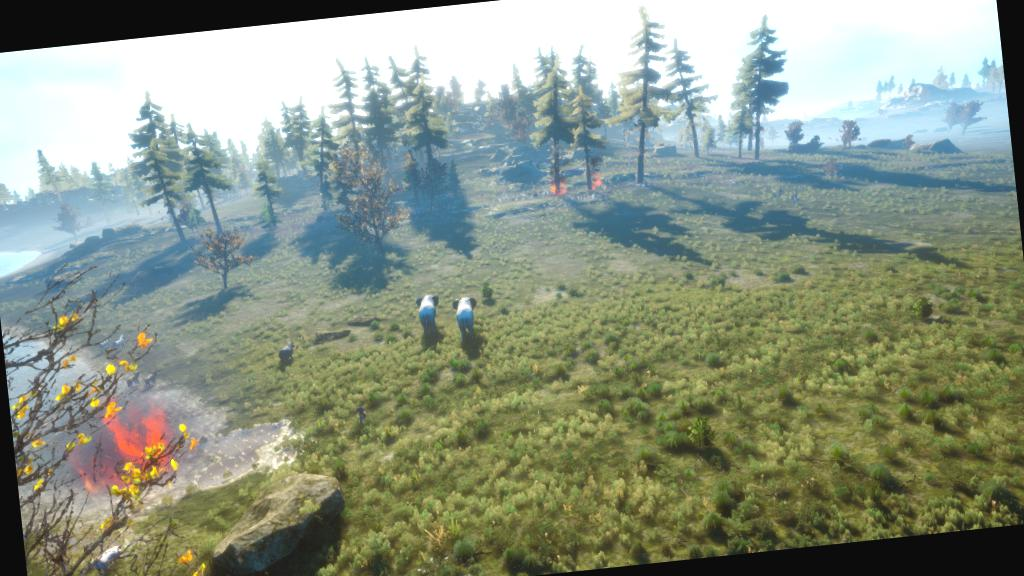Fire: (62, 402, 188, 491), (546, 176, 570, 196), (589, 174, 613, 190)
elephant: (446, 282, 494, 346), (412, 285, 450, 338)
hippopotamus: (274, 329, 304, 372)
human: (343, 389, 382, 431)
